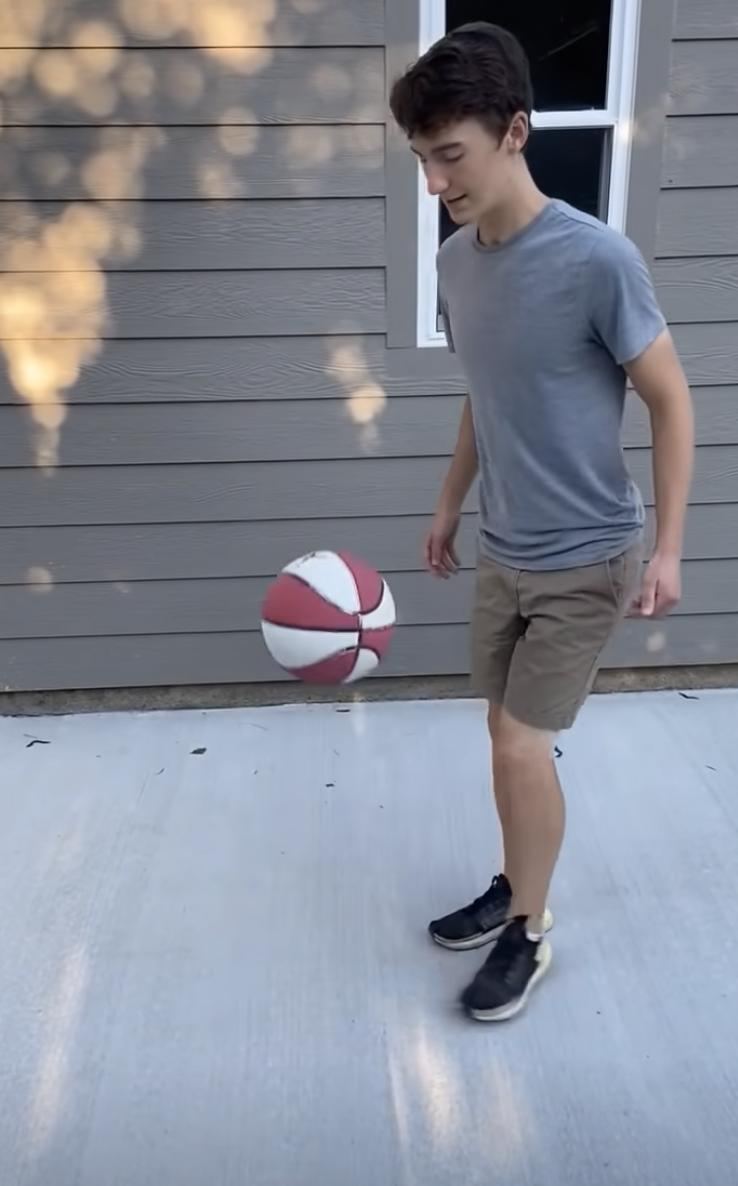ball: (263, 550, 395, 683)
foot: (462, 921, 551, 1022), (430, 875, 526, 951)
person: (394, 24, 695, 1021)
